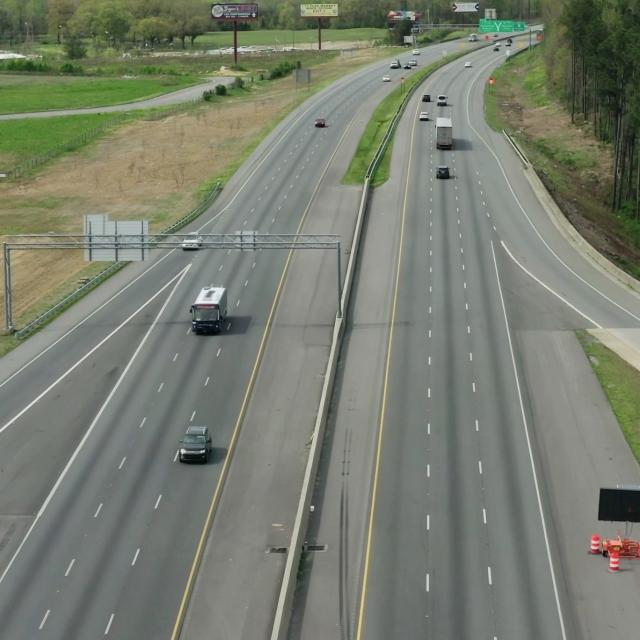Car: (190, 282, 230, 340), (179, 423, 211, 466), (437, 116, 455, 152), (435, 163, 455, 181)
